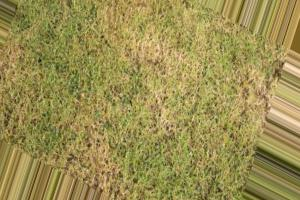patch: (24, 17, 227, 141)
